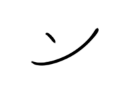n: (28, 21, 99, 70)
